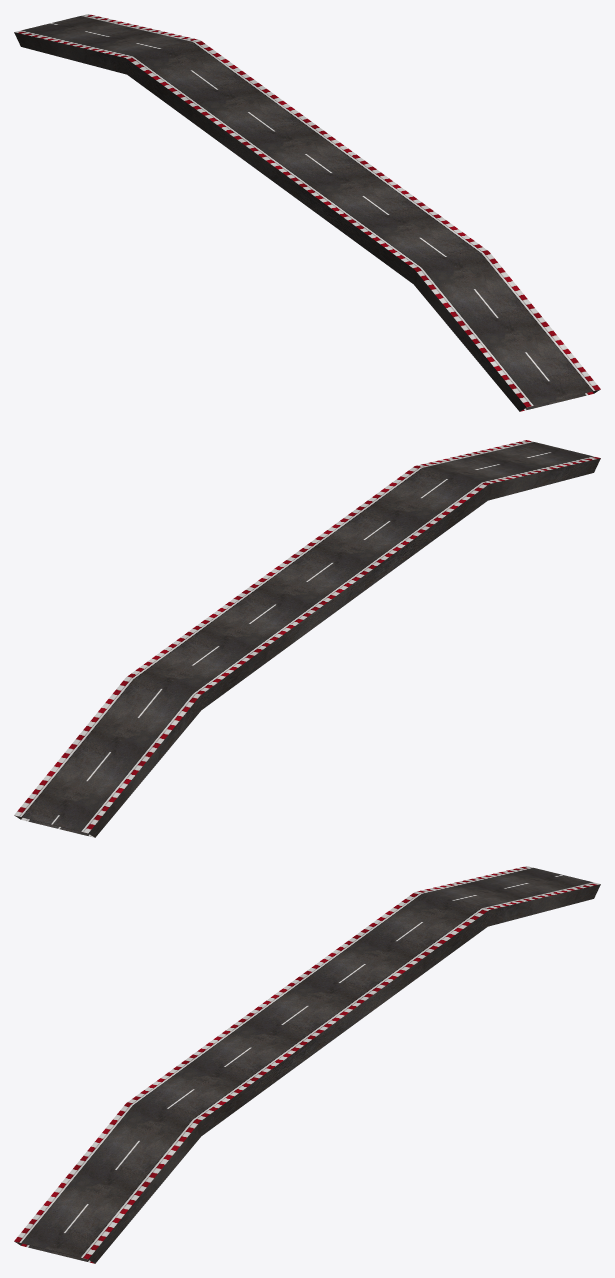
File: road_E.FBX
3 renders of one model, top to bottom at view 1: azimuth 30°, elevation 25°; view 2: azimuth 150°, elevation 25°; view 3: azimuth 330°, elevation 25°, orthographic.
Parts seen in each view (by area): view 1: road_E; view 2: road_E; view 3: road_E.
Boxes of the visible parts, left/top/right/bottom form: road_E: left=14, top=14, right=600, bottom=411; road_E: left=14, top=440, right=600, bottom=837; road_E: left=14, top=866, right=600, bottom=1263.
Size of the model in its own units: 630 by 530 by 7524.
